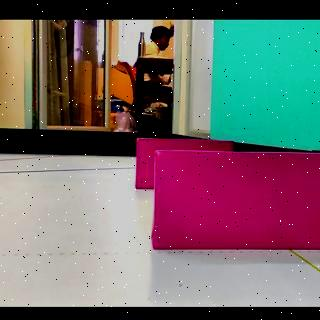xparking: (153, 155, 320, 249)
